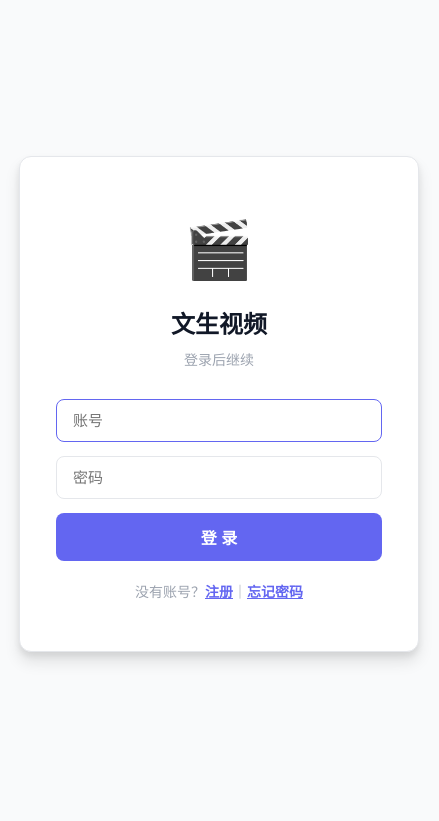
Test: 表单验证 › 注册密码不一致
Click the button "注册".
click(219, 591)  # box [205,581,233,601]
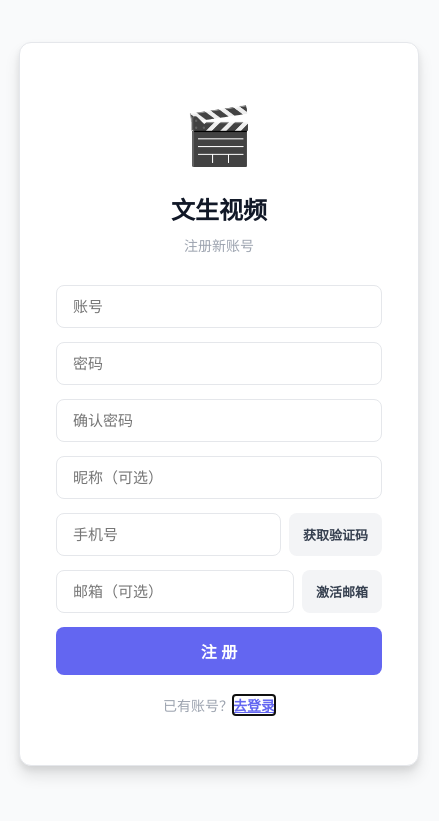
Type "testuser" into the field with placeholder "账号".
click(219, 306); type("testuser")  # box [56,285,382,328]
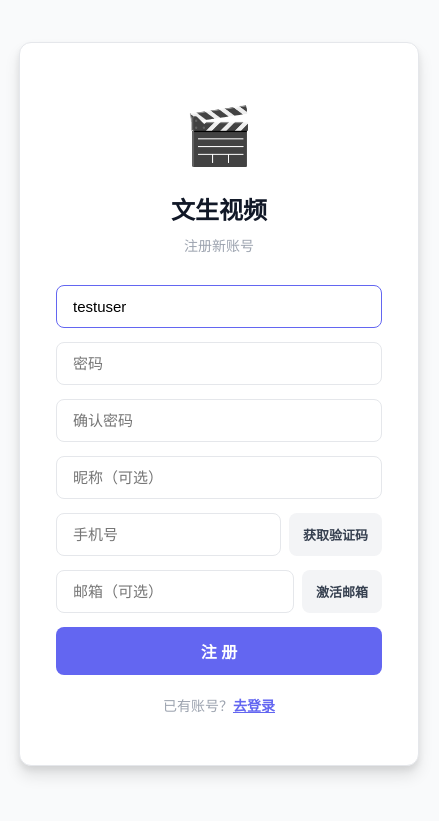
Type "123456" into the password field with placeholder "密码".
click(219, 364); type("123456")  # box [56,342,382,385]
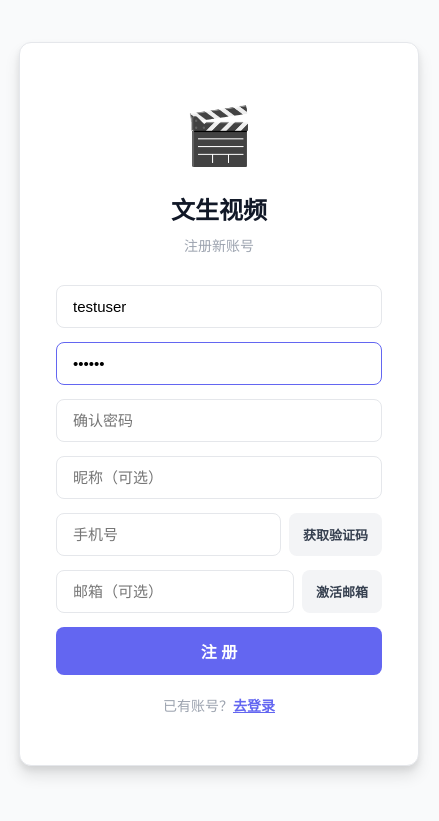
Type "654321" into the password field with placeholder "确认密码".
click(219, 420); type("654321")  # box [56,399,382,442]
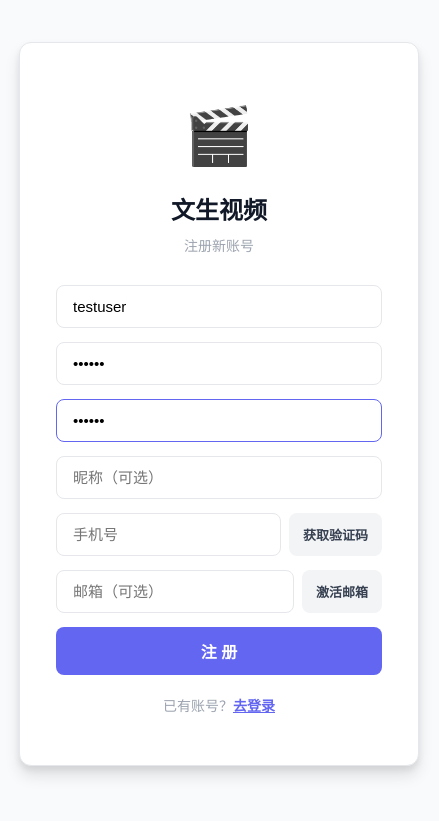
Click the button "注 册".
click(219, 651)  # box [56,627,382,675]
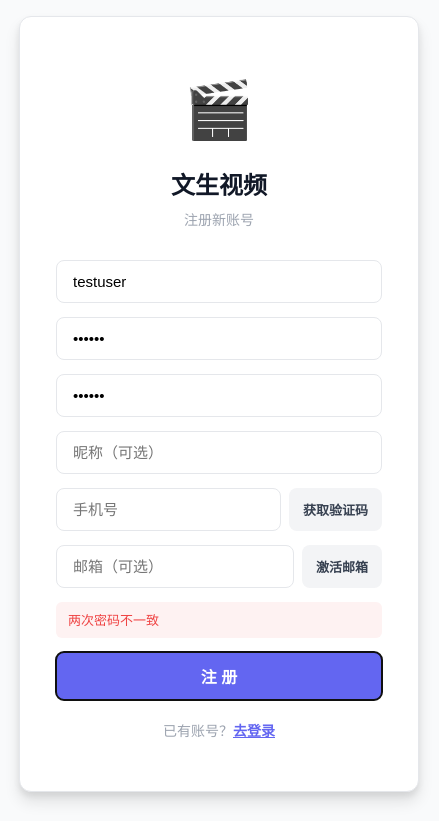
Now the text "两次密码不一致" is shown, box [56,602,382,638]
